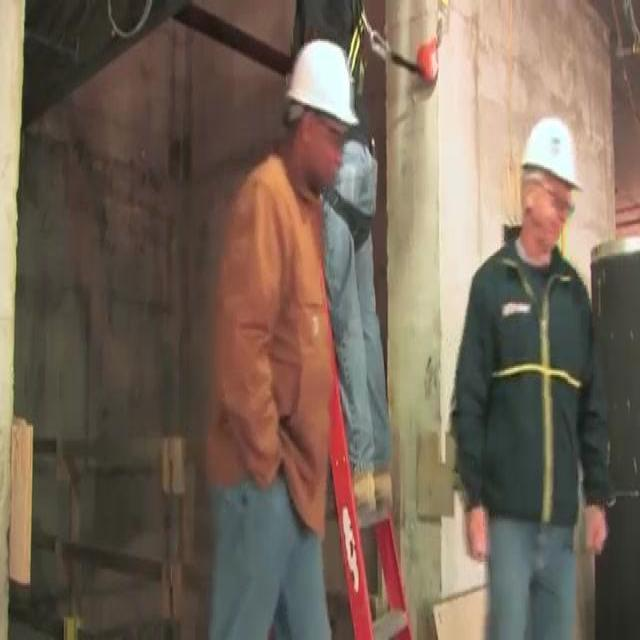safety_helmet: (276, 28, 368, 144), (510, 102, 589, 205)
